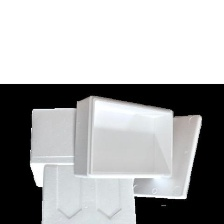foam_box: (69, 92, 177, 182), (132, 109, 205, 204), (36, 160, 140, 224), (25, 103, 80, 190)
